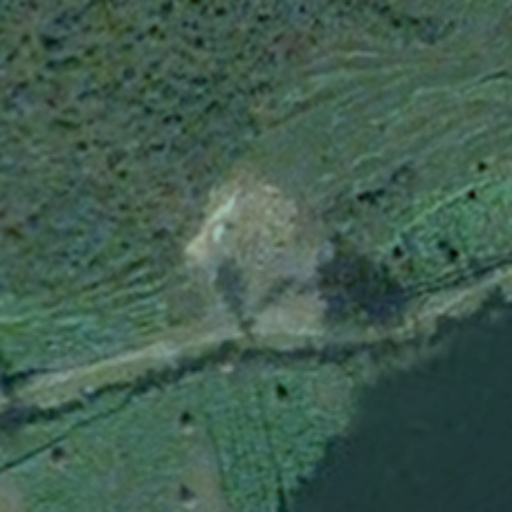landslide: (184, 182, 328, 337)
